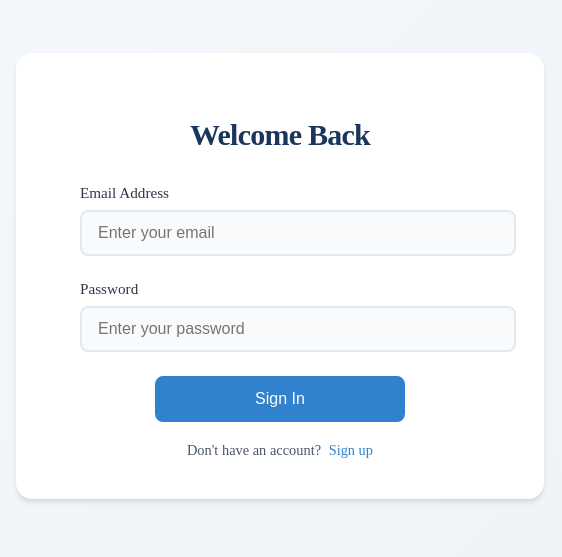
Scenario: Login Component › clears error when input changes
Step 1. Type "bad@test.com" into the field labelled "Email Address" → (298,233), box [80,210,516,256]
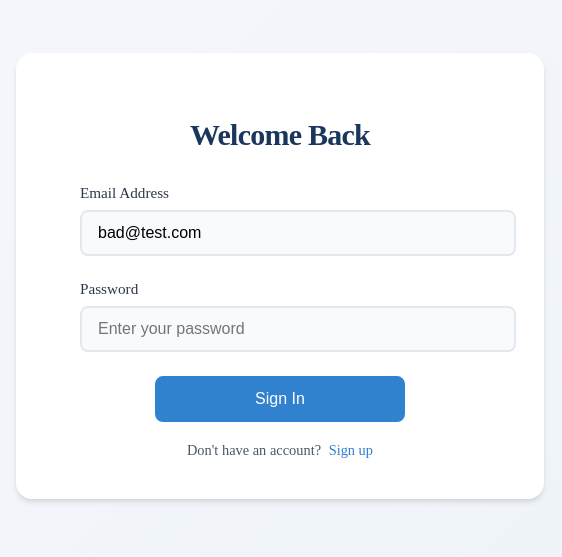
Step 2. Type "wrong" into the password field labelled "Password" → (298,329), box [80,306,516,352]
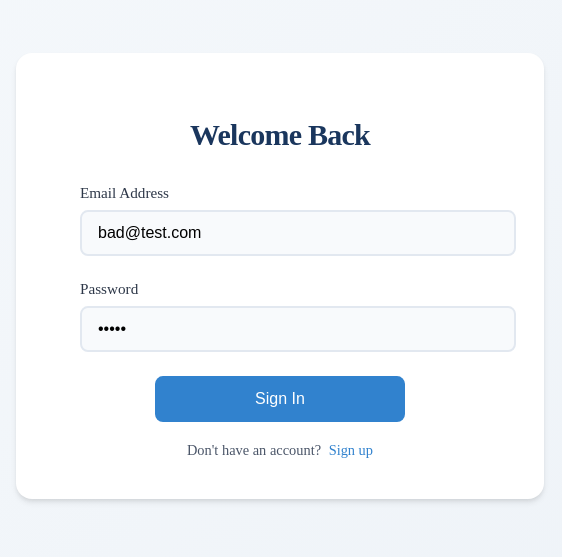
Step 3. Click the button "Sign In" → (280,399), box [155,376,405,422]
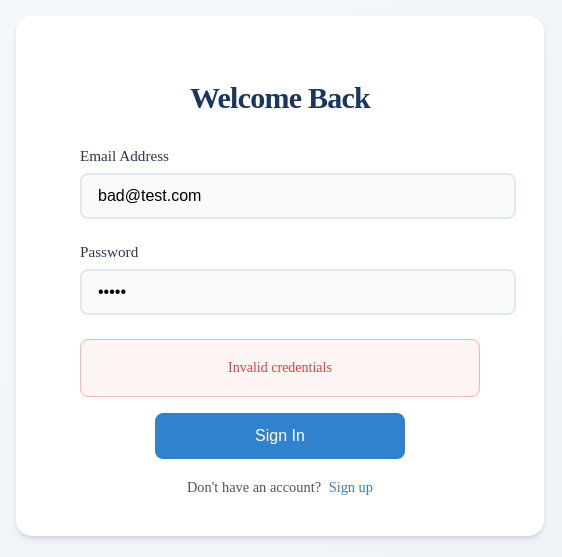
Now the text "Invalid credentials" is shown, box [80,339,480,397]
Step 4. Replace the text in the field labelled "Email Address" with "new@test.com" → (298,196), box [80,173,516,219]
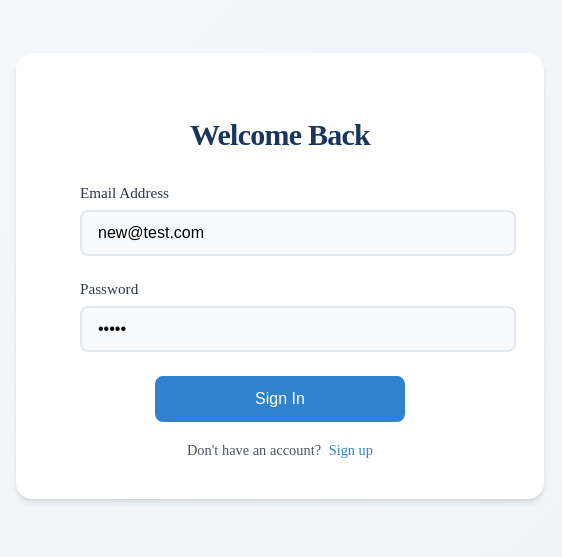
Now the text "Invalid credentials" is gone
